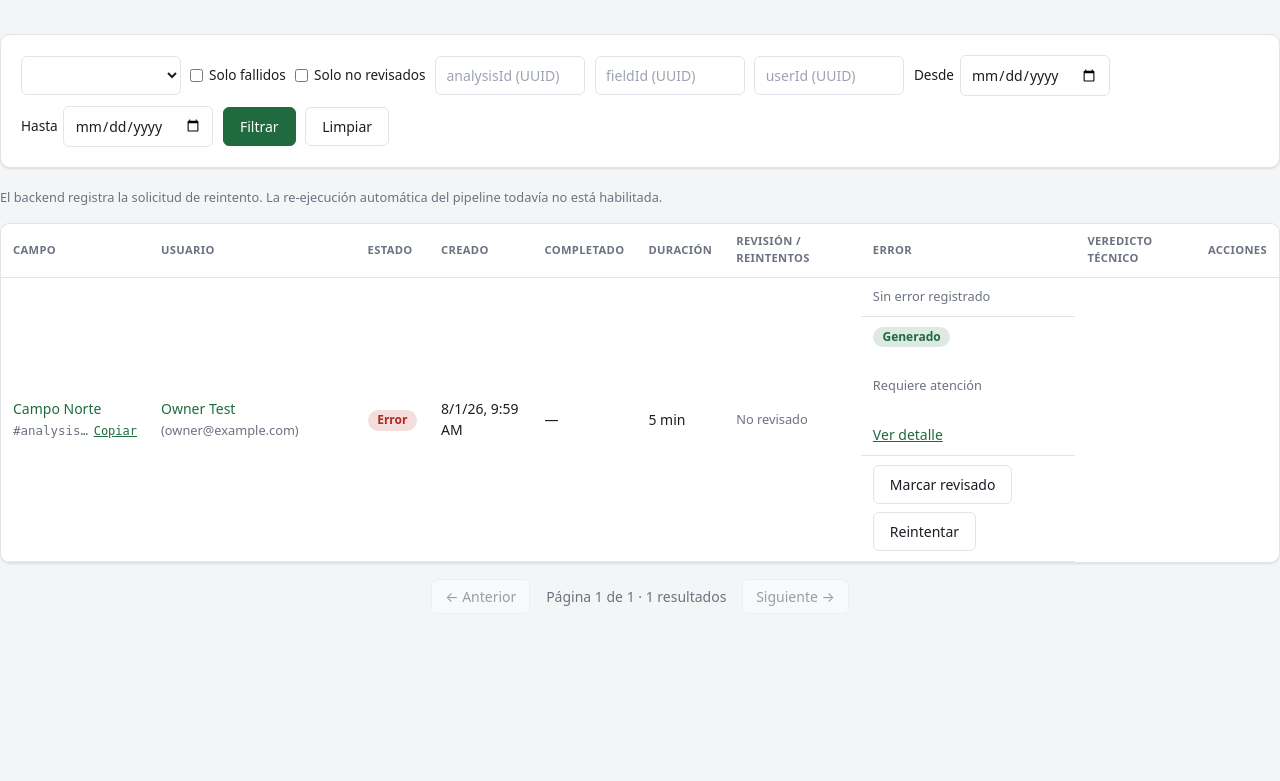
Scenario: AnalysisComponent › Veredicto técnico (PR 13A) › renderiza possibleCauses
Click the button "Ver detalle".
click(908, 435)  # box [873, 424, 943, 445]
(page scrolled)
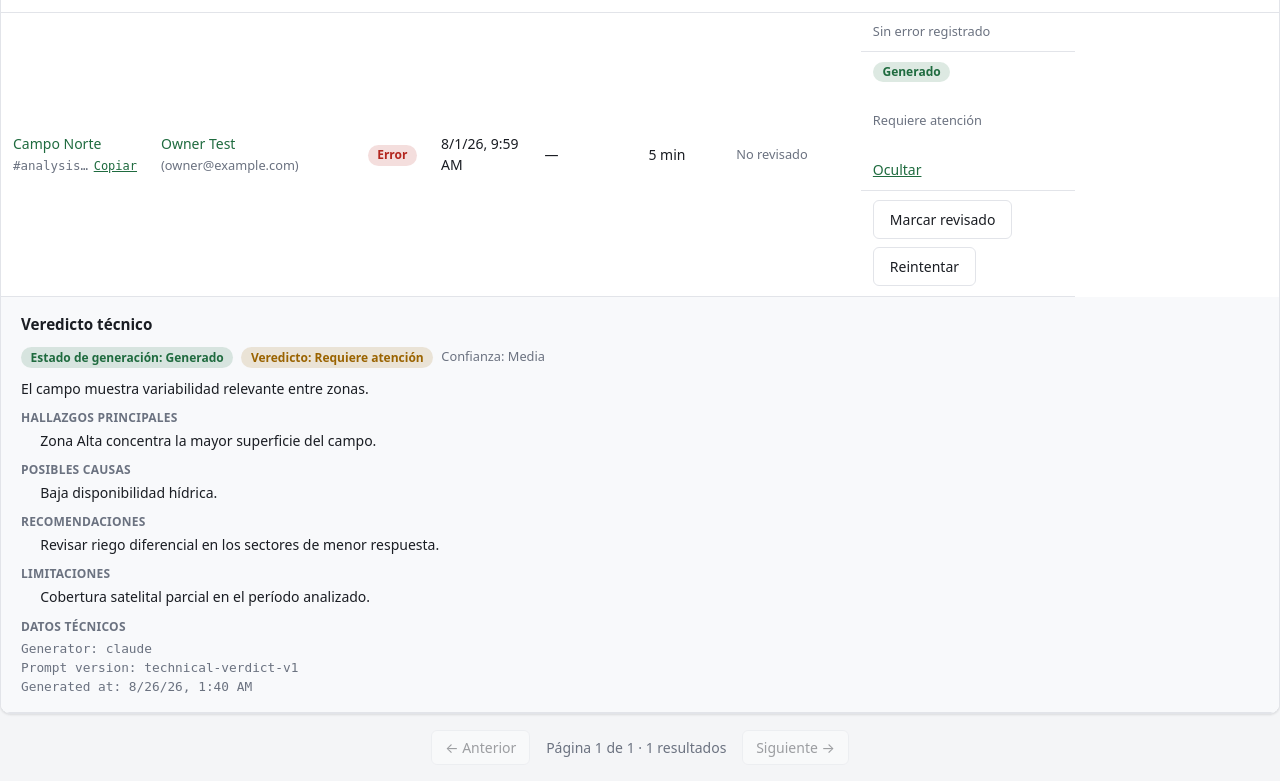
Check: the element that starts with "Veredicto técnico" shows "Posibles causas", box [21, 461, 131, 478]
Check: the element that starts with "Veredicto técnico" shows "Baja disponibilidad hídrica.", box [40, 483, 217, 502]
